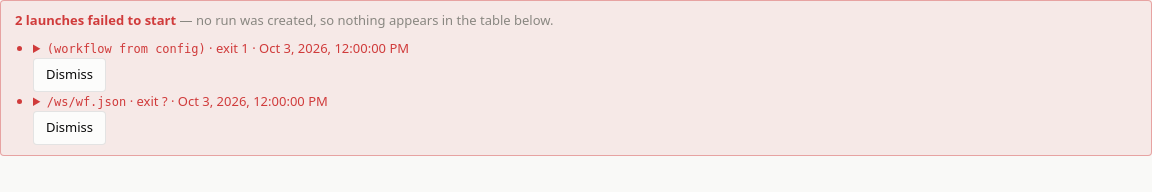
it: FailedLaunches strip › shows a log-load error and pluralizes
The width and height of the screenshot is (1152, 192).
Expected: the text "2 launches failed to start" is shown, [15,11,176,29]
Click the text "(workflow from config)": (126, 48) [47,42,206,56]
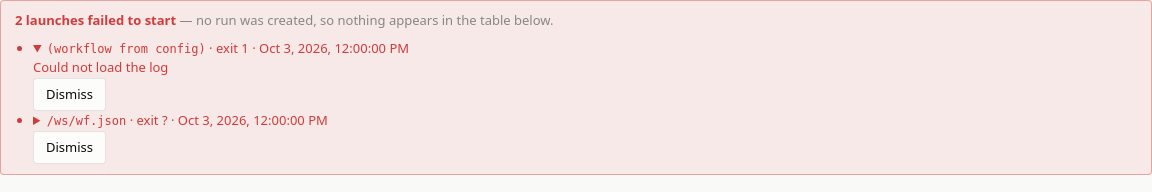
Expected: the message "Could not load the log" is shown, [33,58,168,76]
